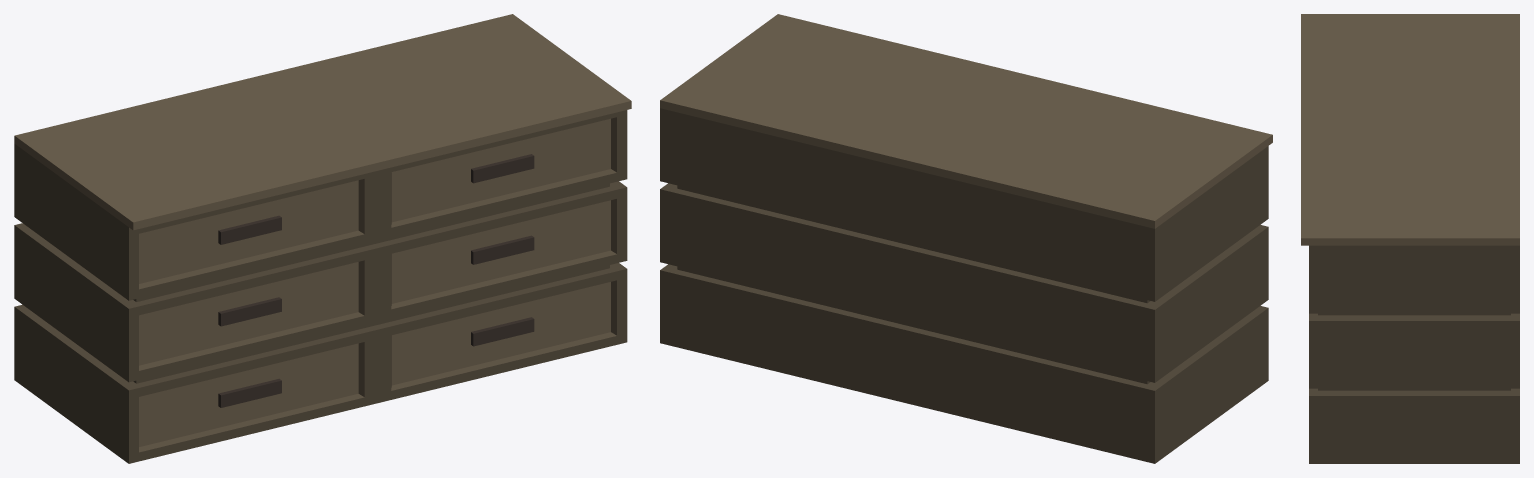
File: Drawer_5.gltf
3 views of the same model, side by side, from view 1: azimuth 30°, elevation 25°; view 2: azimuth 150°, elevation 25°; view 3: azimuth 270°, elevation 25° (orthographic). The views are drawn at different scales.
Visible parts, largest first — view 1: Drawer_5; view 2: Drawer_5; view 3: Drawer_5.
Part boxes in pixels (x1,y1,x2,y2): Drawer_5: (14,14,631,463); Drawer_5: (660,14,1272,463); Drawer_5: (1301,14,1519,463).
Size of the model in its own units: 2.79 by 1.33 by 1.15.
